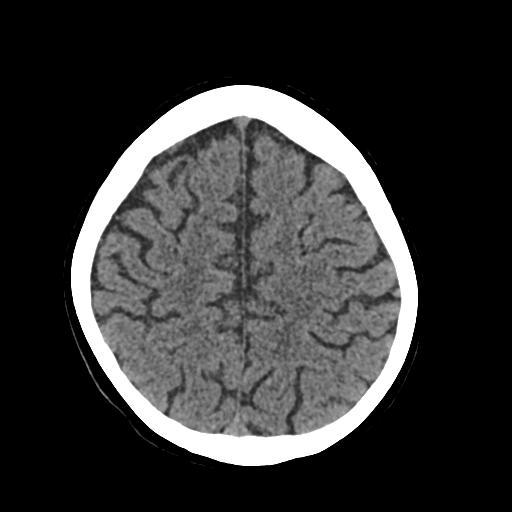Cancer: (157, 156, 208, 194)
